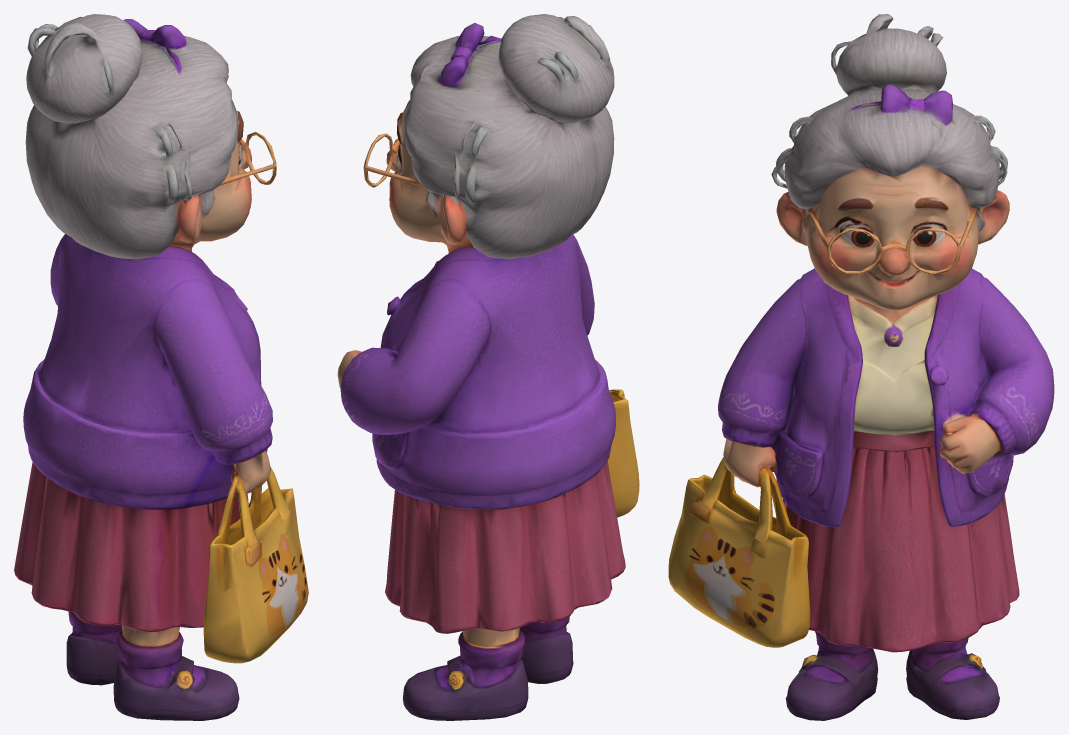
Rendered from granny.glb.
3 renders of one model, left to right at view 1: azimuth 30°, elevation 25°; view 2: azimuth 150°, elevation 25°; view 3: azimuth 270°, elevation 25°, orthographic. The views are drawn at different scales.
Parts seen in each view (by area): view 1: tripo_node_8b116361-77af-42c0-9db1-3c6d6363a3cd; view 2: tripo_node_8b116361-77af-42c0-9db1-3c6d6363a3cd; view 3: tripo_node_8b116361-77af-42c0-9db1-3c6d6363a3cd.
Part boxes in pixels (box(x1,y1,x2,y2)): tripo_node_8b116361-77af-42c0-9db1-3c6d6363a3cd: box(14, 14, 308, 720); tripo_node_8b116361-77af-42c0-9db1-3c6d6363a3cd: box(337, 14, 639, 720); tripo_node_8b116361-77af-42c0-9db1-3c6d6363a3cd: box(668, 14, 1054, 720).
Size of the model in its own units: 0.2982 by 0.85 by 0.4578.
Materials: 1 (1 with a texture image).
